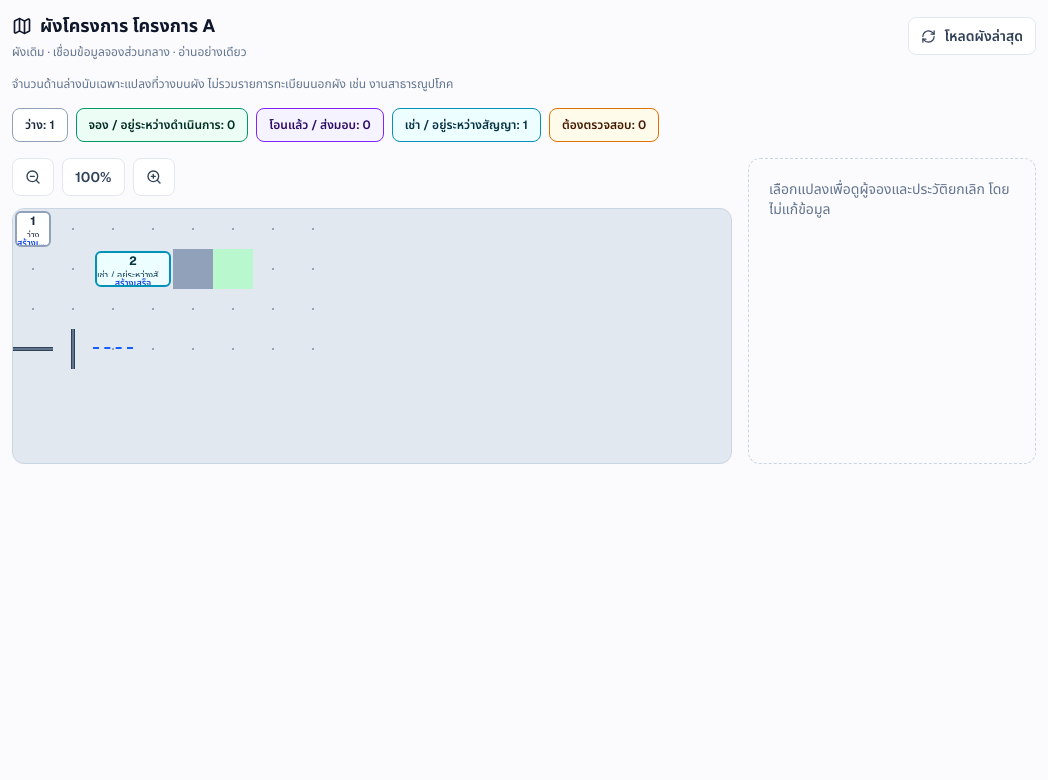
canonical rental links on read-only map › hides previous account renter and contract links immediately on auth change, rejects its late refresh
The image size is (1048, 780).
Click the button with aria-label "แปลง 2 — เช่า / อยู่ระหว่างสัญญา" at (133, 269), box [93,249,173,289]
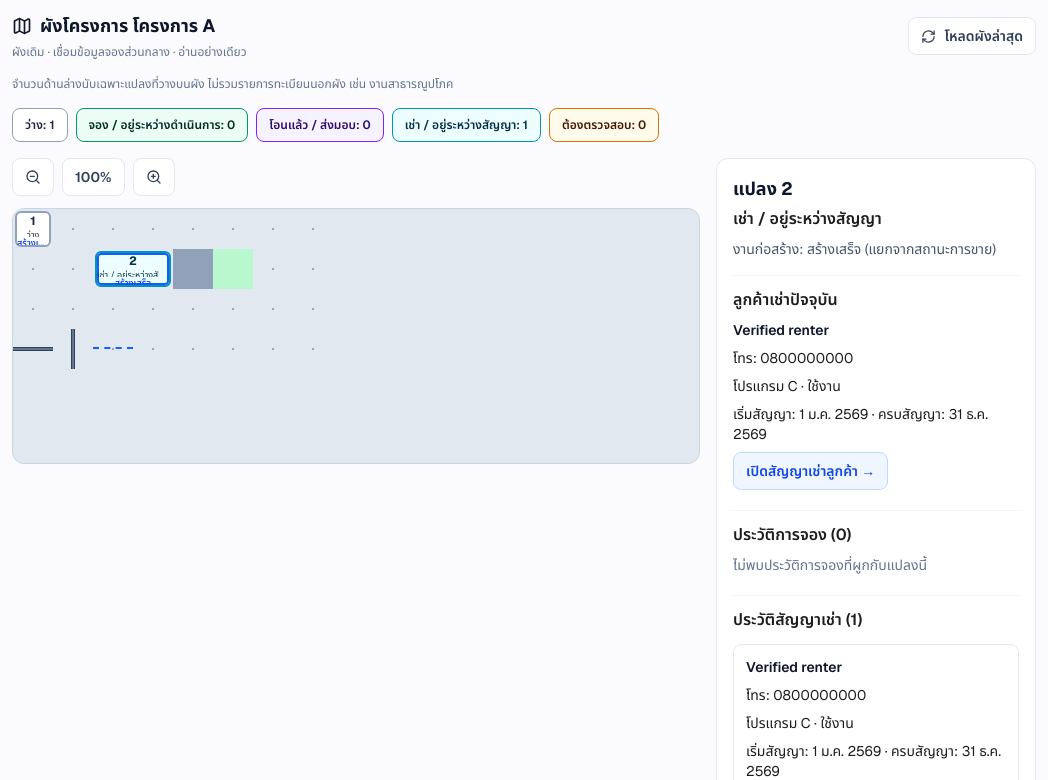
Result: the text "Verified renter" below "ลูกค้าเช่าปัจจุบัน" is shown at [733,321,829,339]
Click the button "โหลดผังล่าสุด" at (972, 36), box [908,17,1036,55]
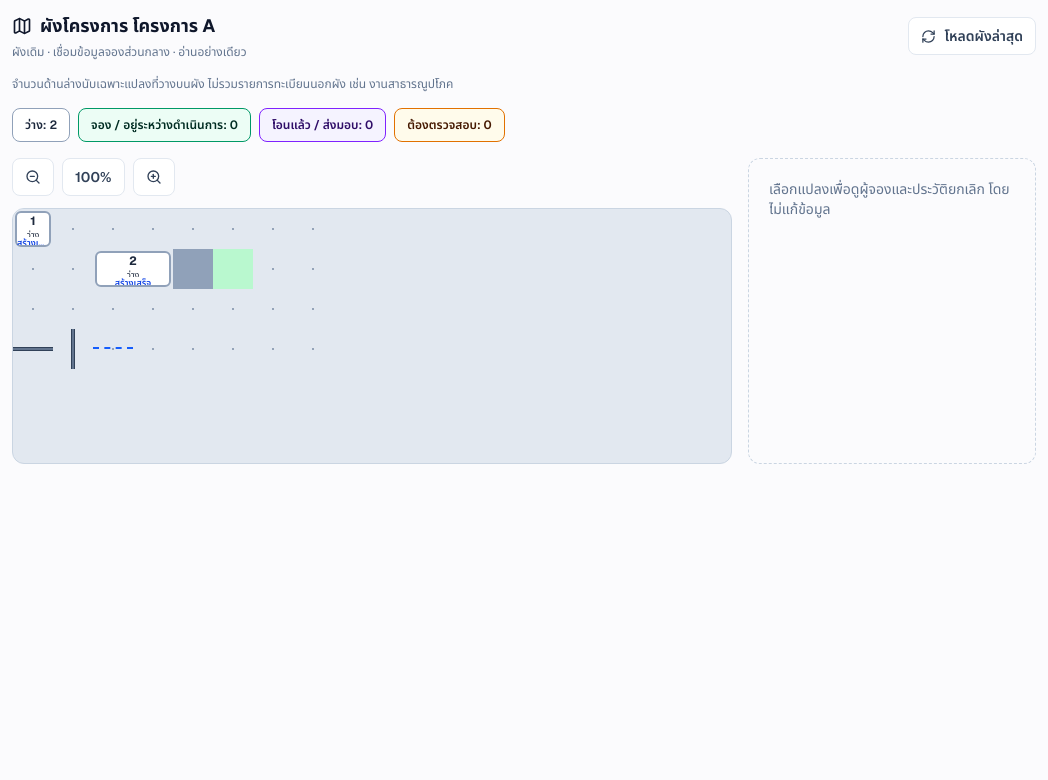
Result: the button with aria-label "แปลง 2 — ว่าง" is shown at [93,249,173,289]
Result: the text "Verified renter" is gone
